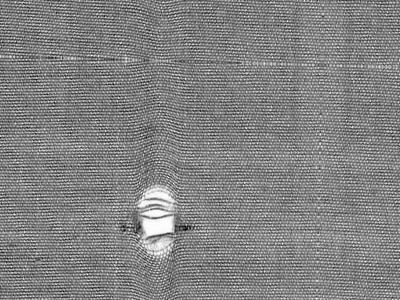hole: (134, 182, 185, 260)
